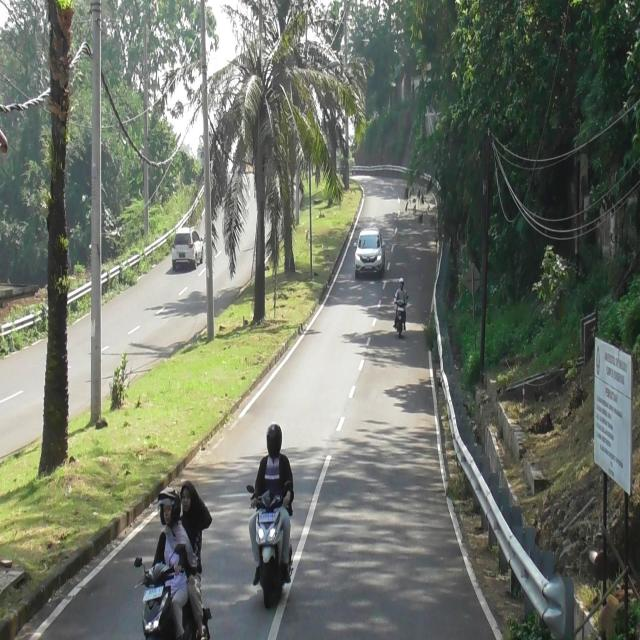motorcycle: (136, 554, 208, 640), (249, 486, 292, 606), (396, 300, 405, 338)
person: (254, 423, 292, 582), (152, 492, 192, 630), (177, 480, 207, 632), (393, 277, 409, 306)
rider_region: (142, 484, 212, 640), (251, 419, 294, 615), (393, 276, 408, 338)
